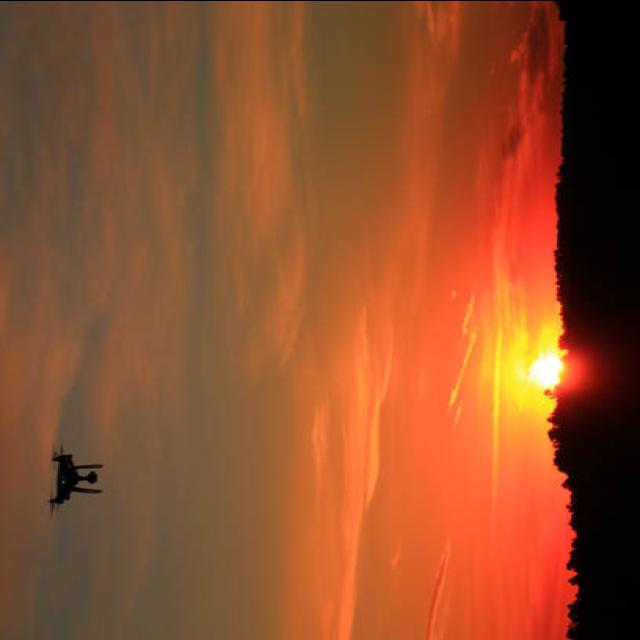drone: (46, 443, 104, 518)
